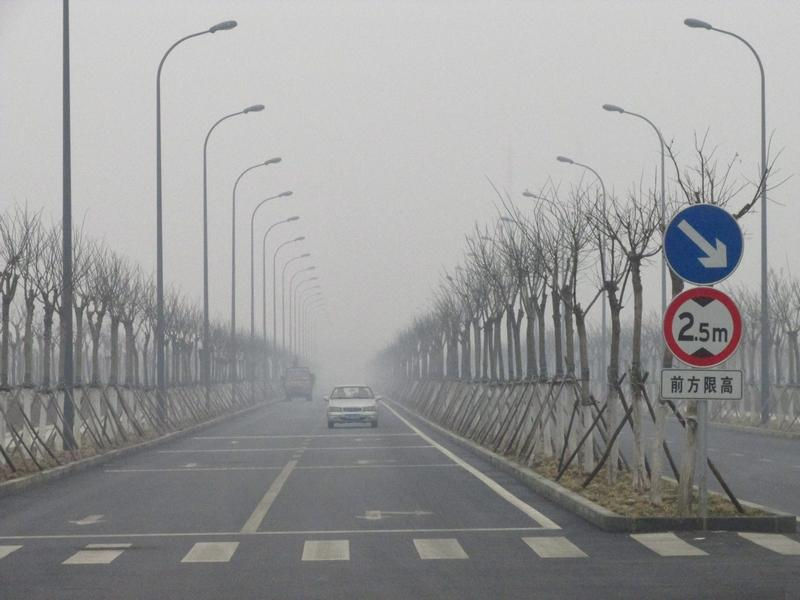bus: (280, 366, 314, 400)
car: (324, 384, 383, 430)
